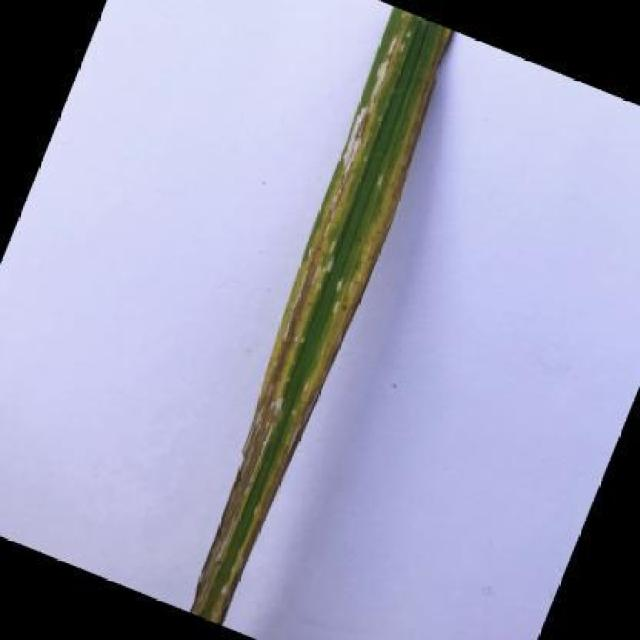Rice False Smut: (148, 3, 469, 629)
